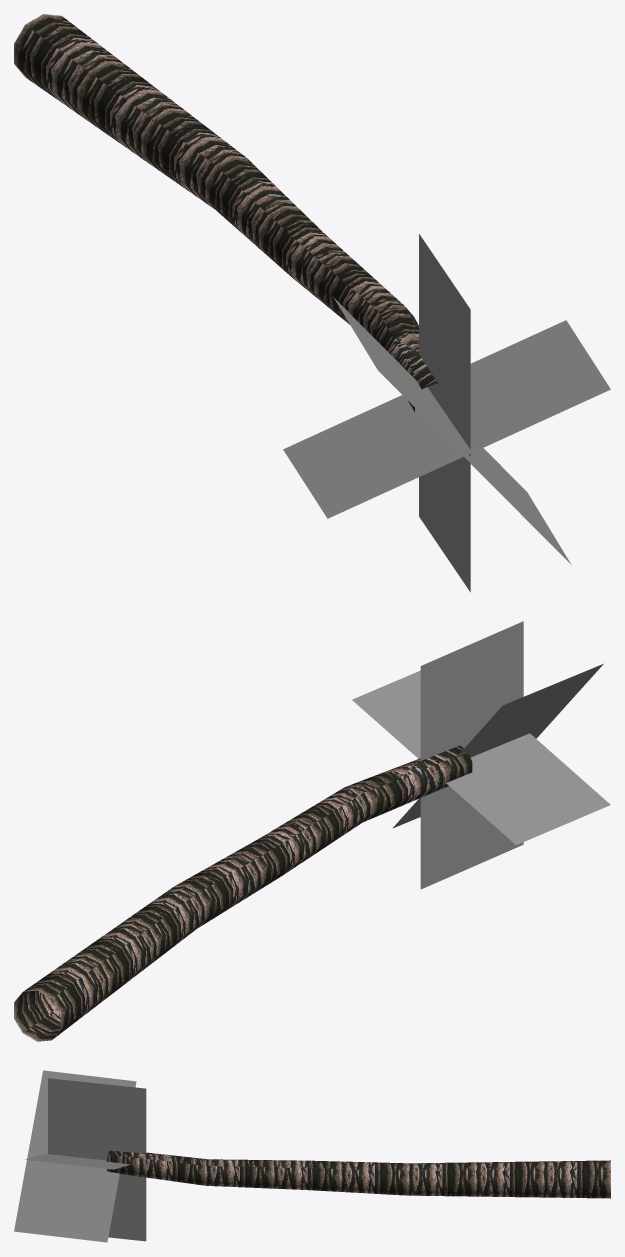
The model's file is coconut_bb1.obj.
The picture shows the model from 3 angles, top to bottom: view 1: azimuth 30°, elevation 25°; view 2: azimuth 150°, elevation 25°; view 3: azimuth 270°, elevation 25°; orthographic projection. The views are drawn at different scales.
Visible parts, largest first — view 1: plant_pmat3, plant_pmat1; view 2: plant_pmat3, plant_pmat1; view 3: plant_pmat3, plant_pmat1.
Part boxes in pixels (<box>): plant_pmat3: <box>283,234,610,592</box>; plant_pmat1: <box>14,14,437,411</box>; plant_pmat3: <box>352,621,610,889</box>; plant_pmat1: <box>14,745,472,1041</box>; plant_pmat3: <box>14,1070,146,1242</box>; plant_pmat1: <box>106,1150,610,1198</box>.
Bounding box in the file's own units: 1.41 × 1.35 × 4.78.
